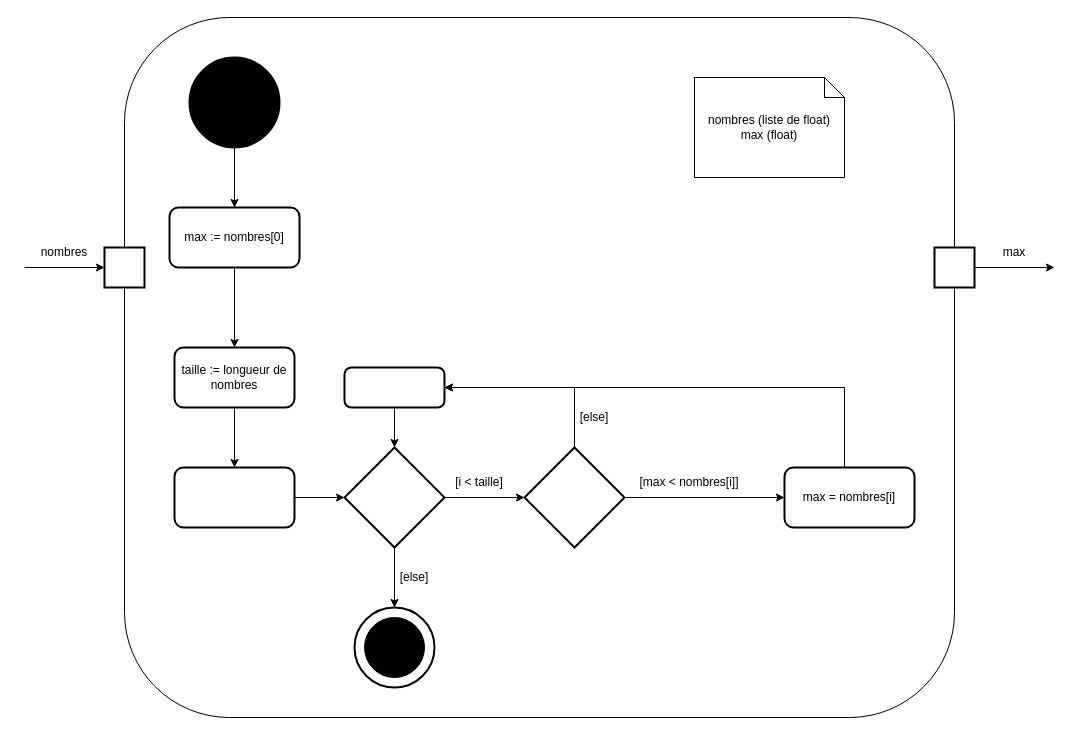
Some shapes in this 1080 by 735 pixel diagram are drawn without their labels. Here are the shapes that lost their labels. From the top down, the box of each, then its label:
(343, 366, 445, 408): i = i + 1
(173, 466, 295, 528): i := 0
